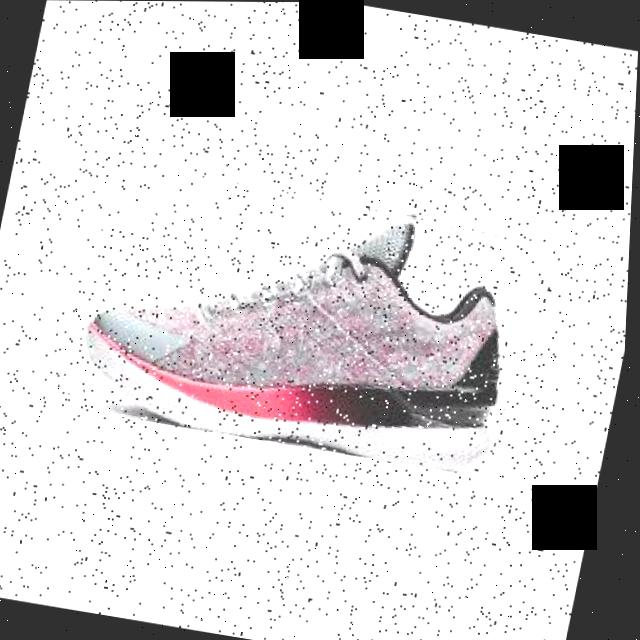shoe: (79, 165, 540, 475), (85, 214, 508, 470)
